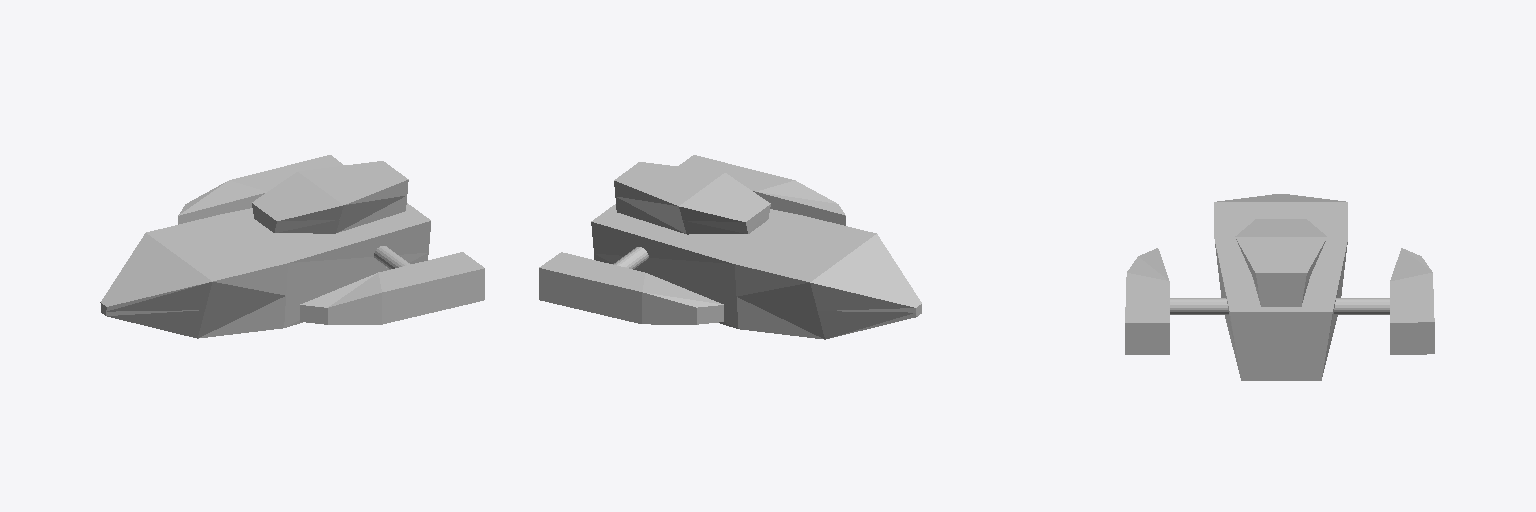
File: SHIPV1.obj
3 views of the same model, side by side, from view 1: azimuth 30°, elevation 25°; view 2: azimuth 150°, elevation 25°; view 3: azimuth 270°, elevation 25° (orthographic).
Parts seen in each view (by area): view 1: pCube5; view 2: pCube5; view 3: pCube5.
Part boxes in pixels (bbox=[...]): pCube5: bbox=[100, 155, 484, 338]; pCube5: bbox=[539, 155, 921, 339]; pCube5: bbox=[1125, 194, 1434, 380].
Size of the model in its own units: 7.92 by 2.55 by 7.01.